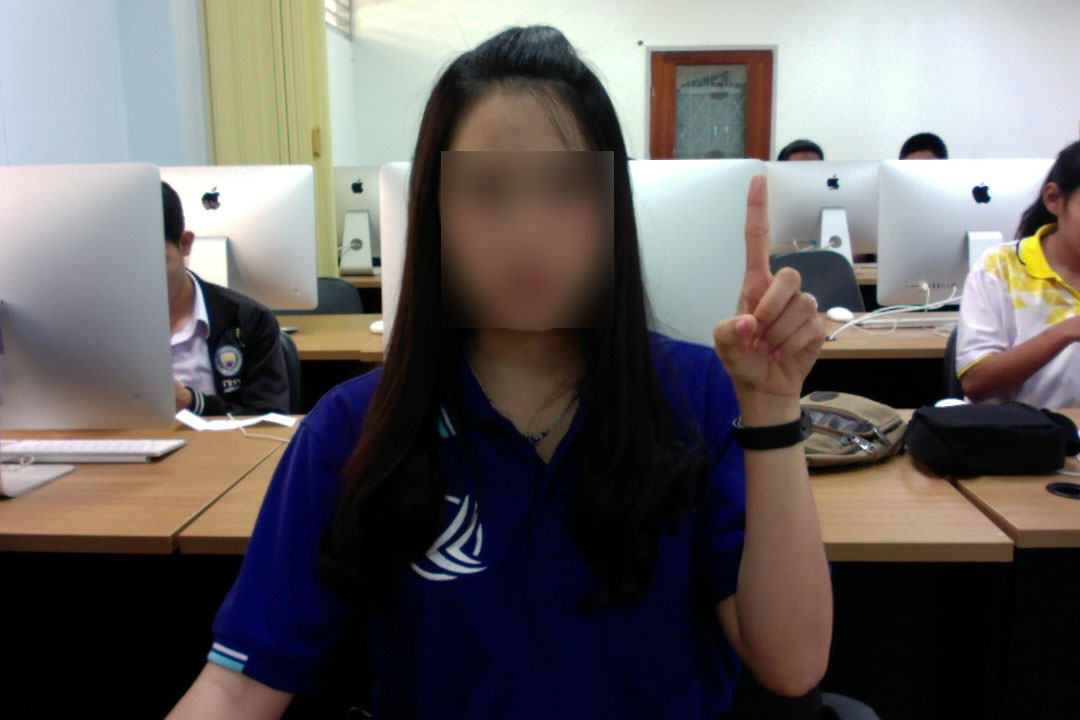dor: (707, 164, 836, 414)
